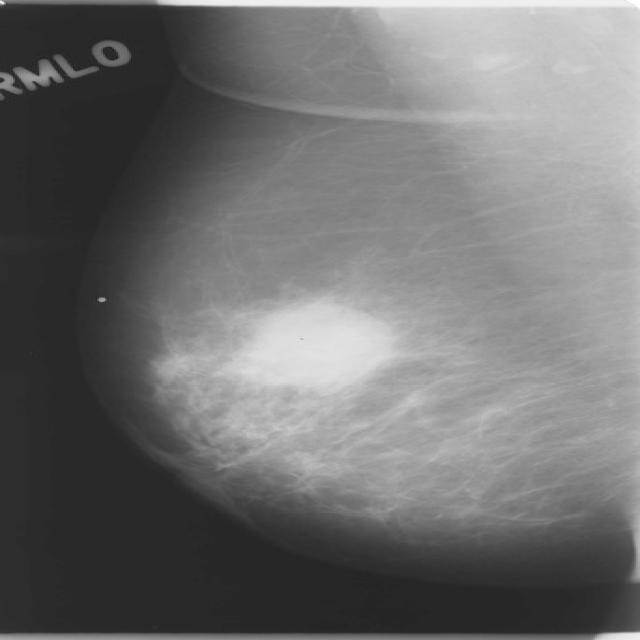tumour: (223, 298, 393, 391)
